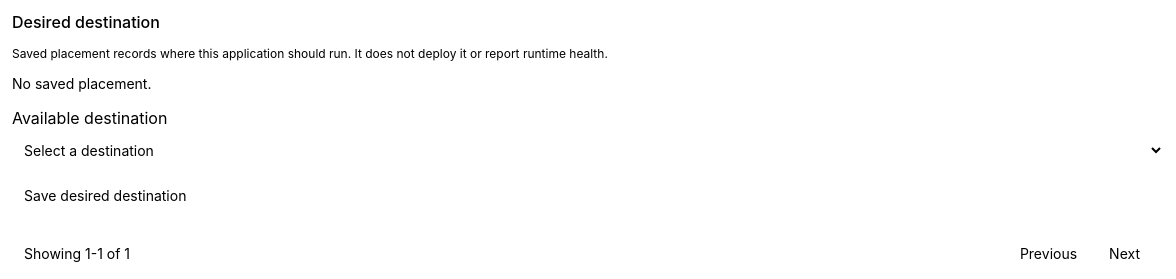
maintainer saves only resource-scoped destination intent and reloads the immutable binding
The image size is (1176, 279).
Select "default · server · docker_compose" in the dropdown labelled "Available destination": (588, 150) [12,130,1164,170]
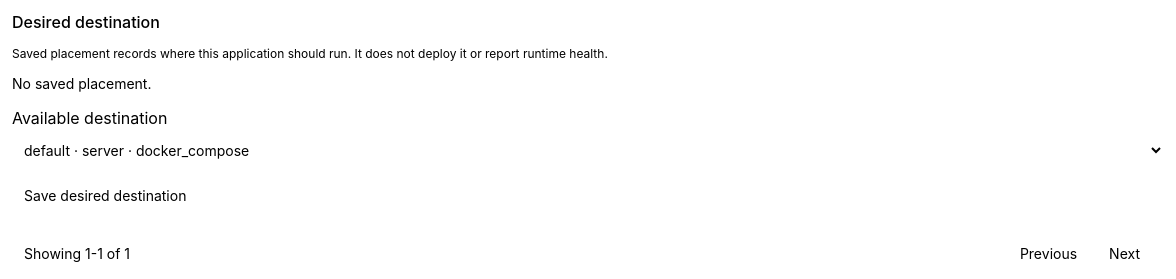
Submit the form named "Save destination for Web", box [12,106,1164,214]
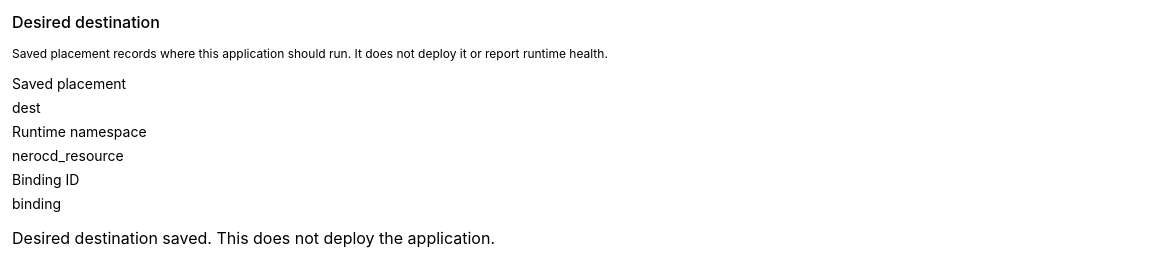
Result: the text "nerocd_resource" is shown at [12,147,124,164]
Result: the dropdown is gone
